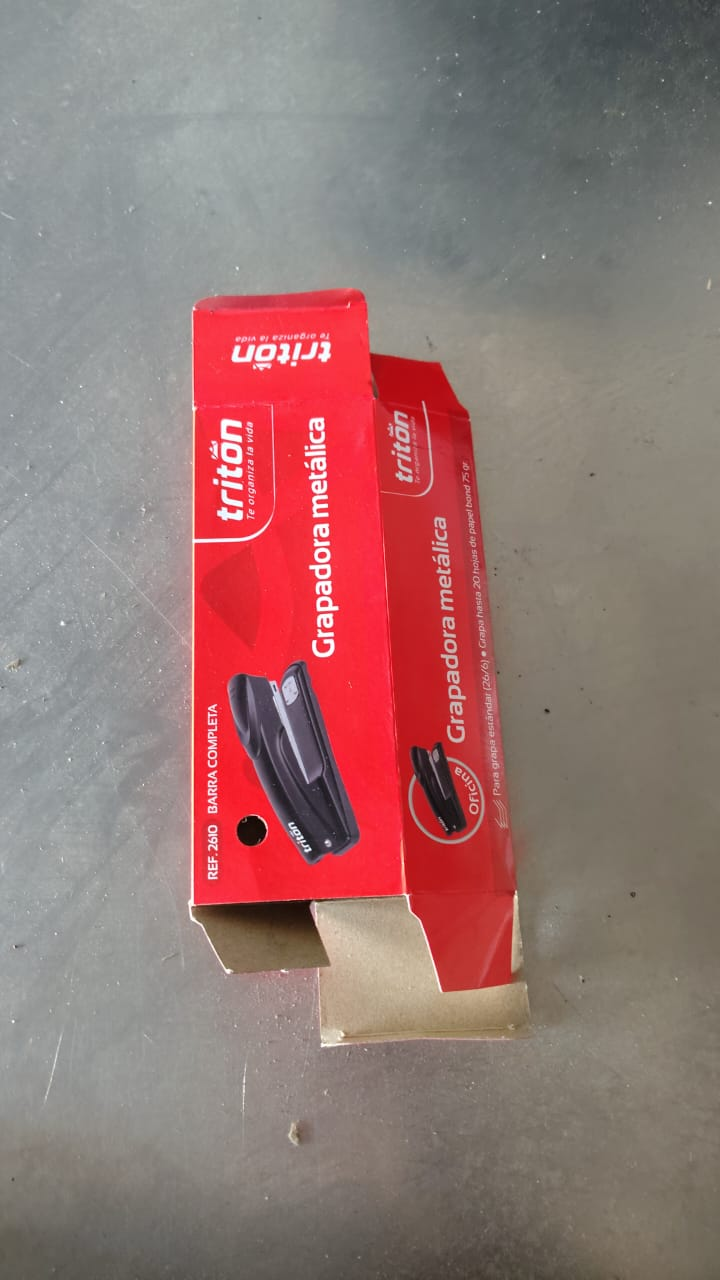Carton: (191, 291, 541, 1041)
